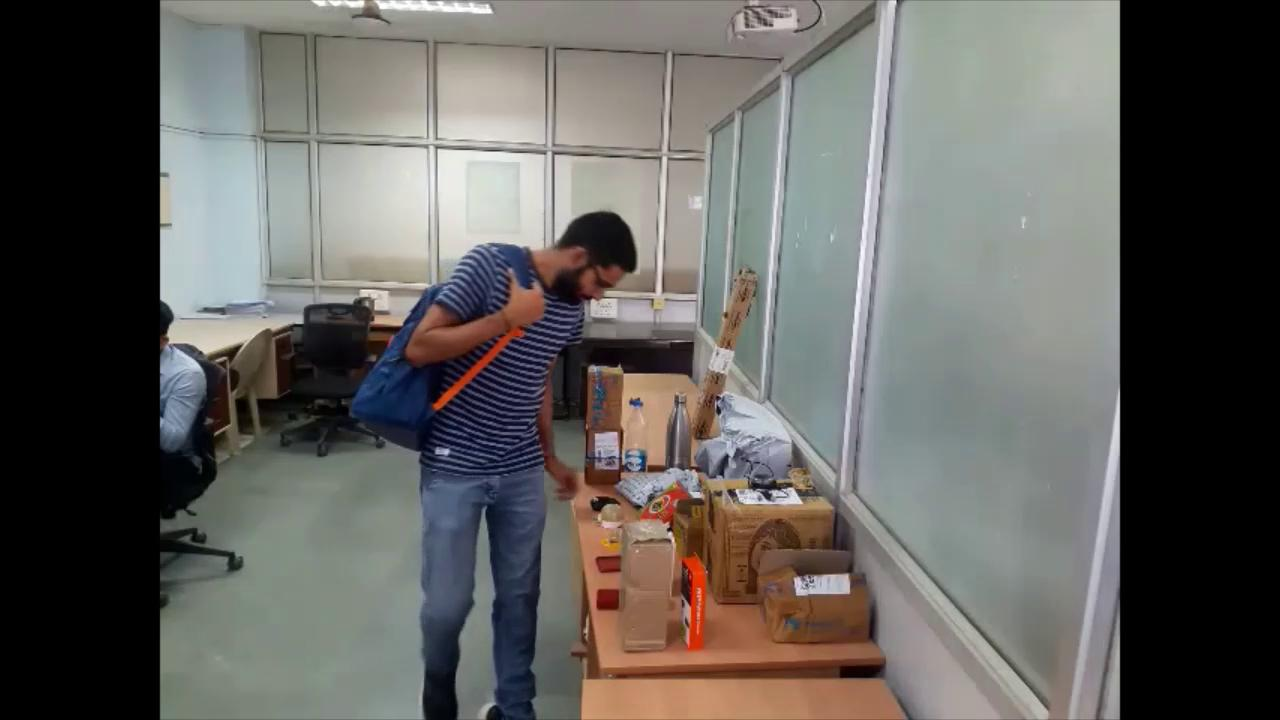Normal: (335, 206, 641, 720)
